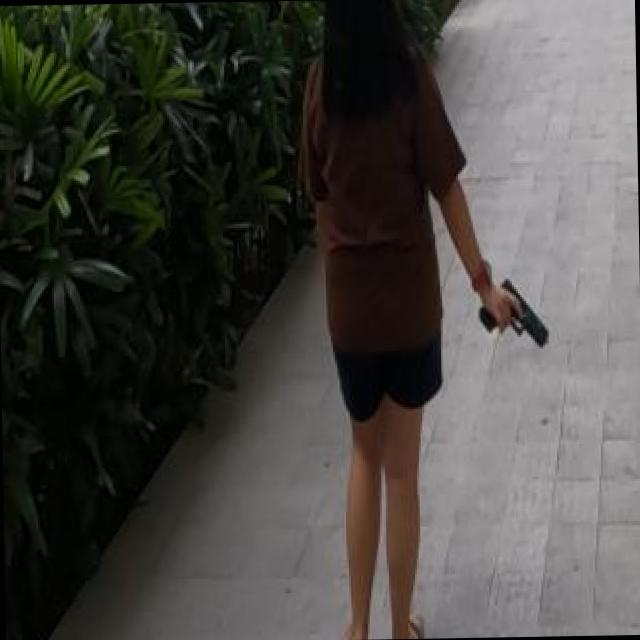Guns: (468, 268, 557, 359)
